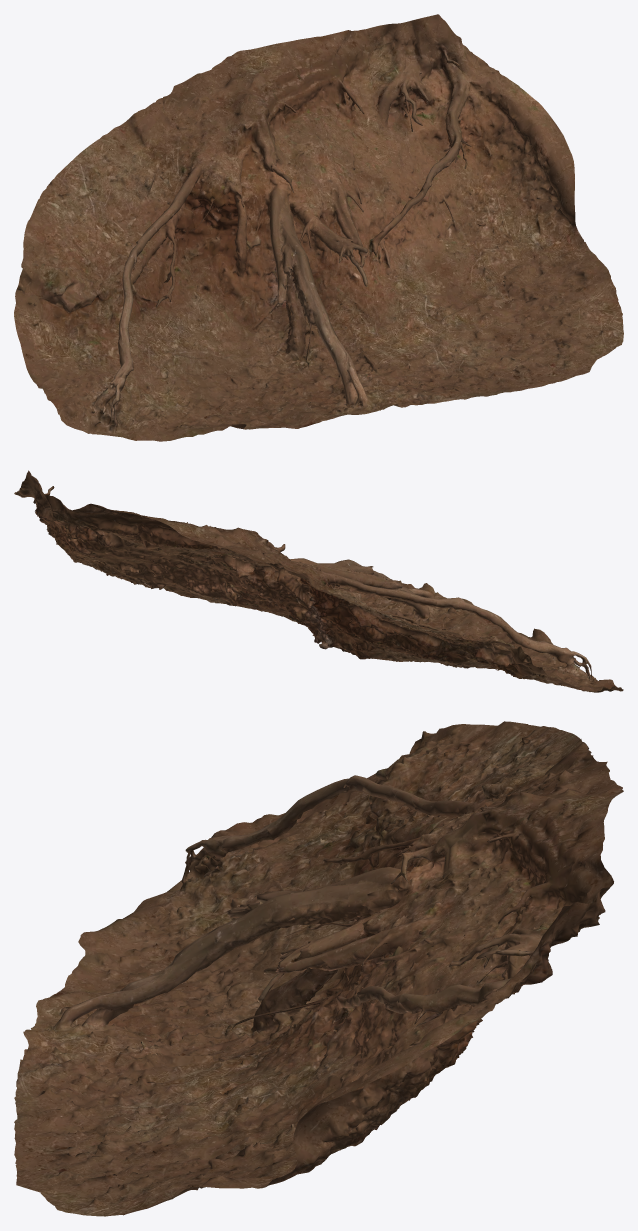
Rendered from root-cluster.glb.
3 views of the same model, one above another, from view 1: azimuth 30°, elevation 25°; view 2: azimuth 150°, elevation 25°; view 3: azimuth 270°, elevation 25° (orthographic). The views are drawn at different scales.
Parts seen in each view (by area): view 1: root_cluster_01; view 2: root_cluster_01; view 3: root_cluster_01.
Boxes of the visible parts, left/top/right/bottom form: root_cluster_01: left=14, top=14, right=623, bottom=441; root_cluster_01: left=14, top=470, right=623, bottom=692; root_cluster_01: left=14, top=721, right=623, bottom=1216.
Bounding box in the file's own units: 4.12 × 1.51 × 2.68.
1 material, 1 textured.
